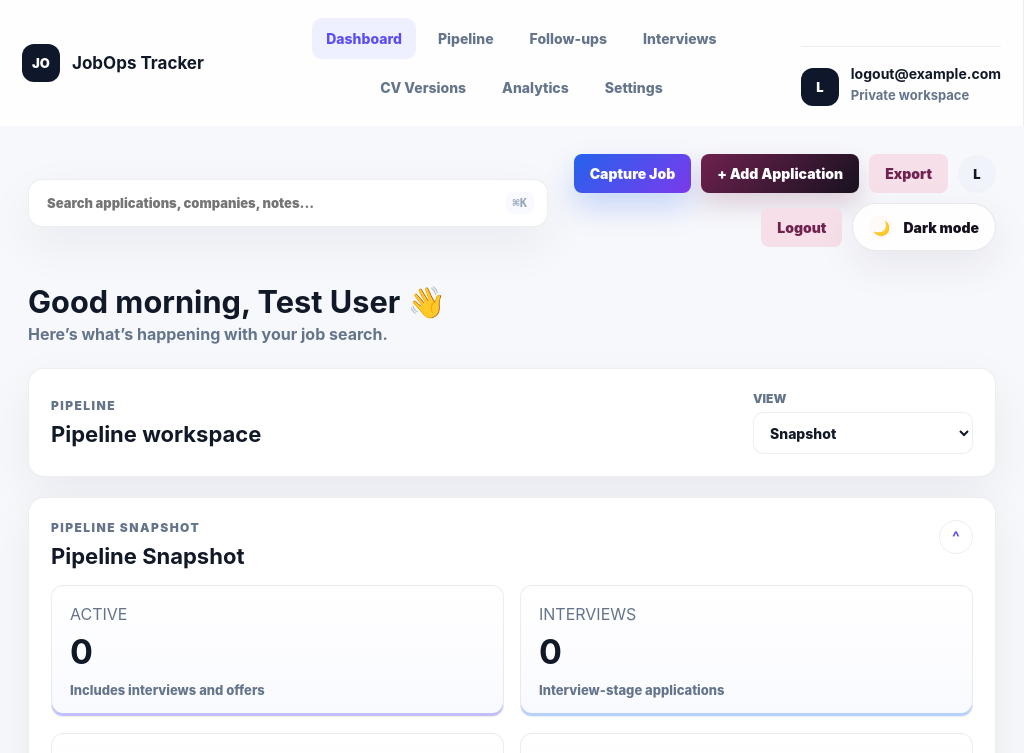
Test: logout and protected application shell › logs out and returns to the auth gate
Expected: the text "logout@example.com" is shown, left=851, top=65, right=1001, bottom=82
Click the button "Logout".
click(802, 228)  # box left=761, top=208, right=842, bottom=247
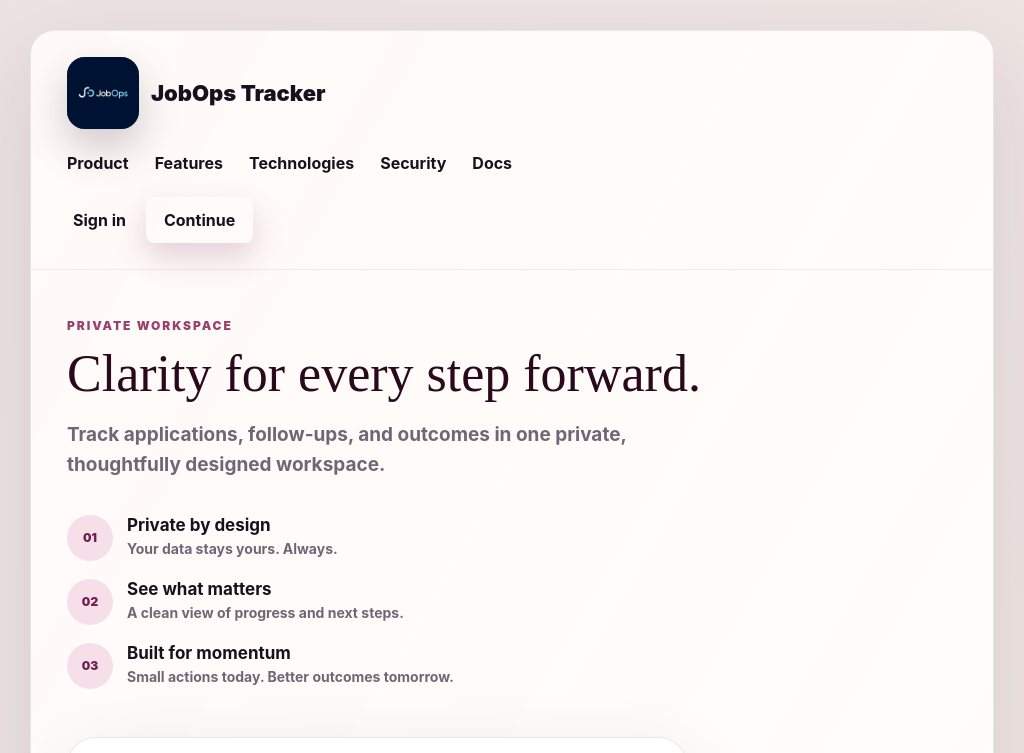
Now the text "logout@example.com" is gone
